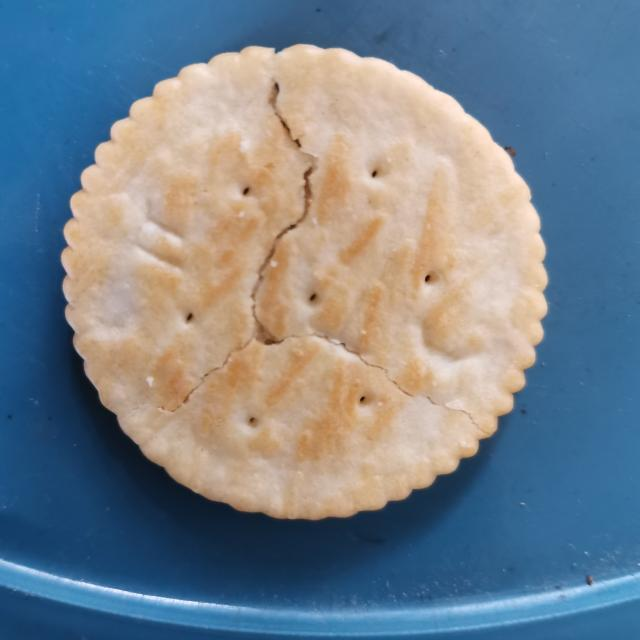Fracture: (123, 40, 505, 445)
